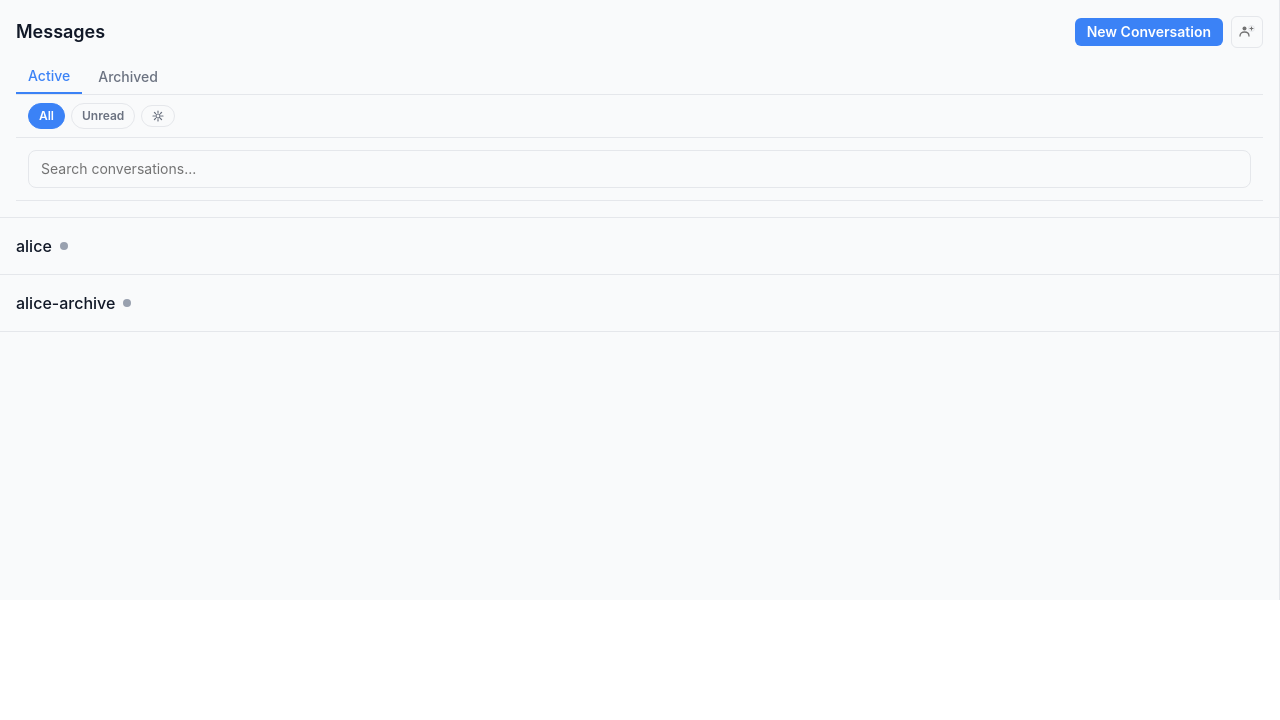
Test: MessagesPage swipe archive gestures › opens thread view from thread preview and requests thread data
Click the button with aria-label "Open conversation" at (42, 246), box x1=16 y1=236 x2=68 y2=256
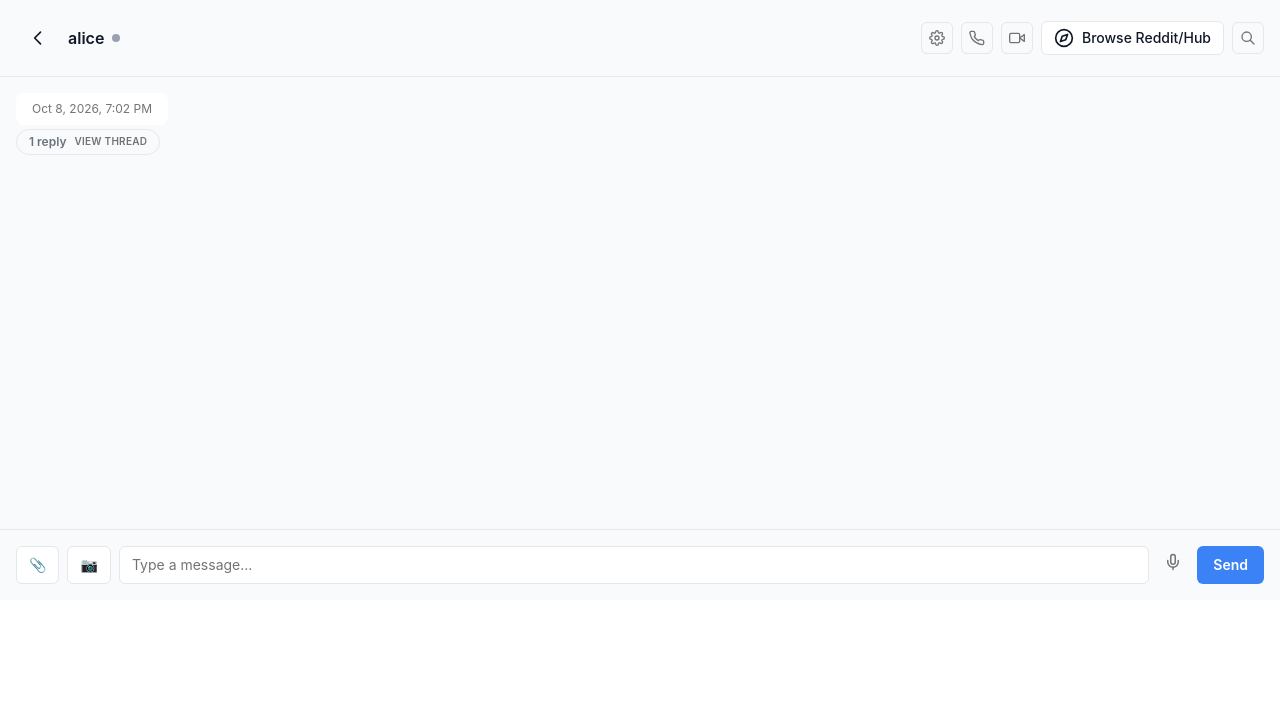
Click the button with aria-label "Open thread" at (88, 142), box x1=16 y1=129 x2=160 y2=155
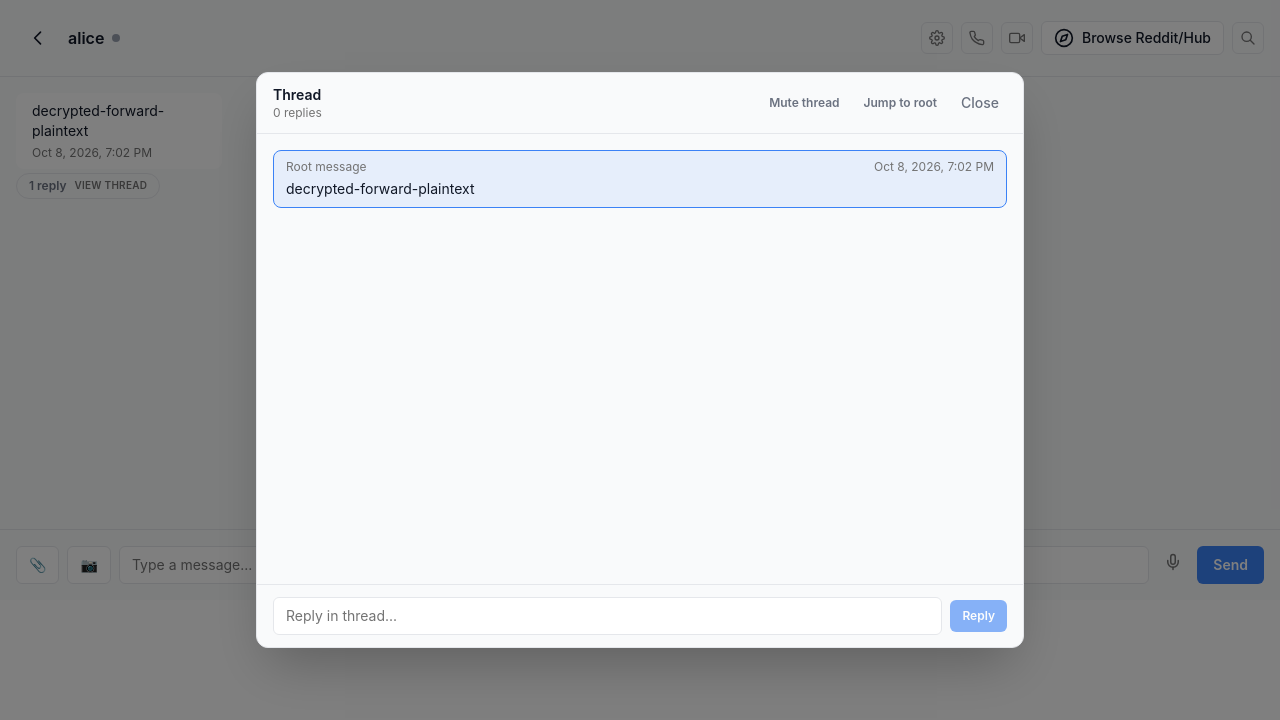
Expected: the heading "Thread" is shown, x1=273 y1=85 x2=322 y2=105
